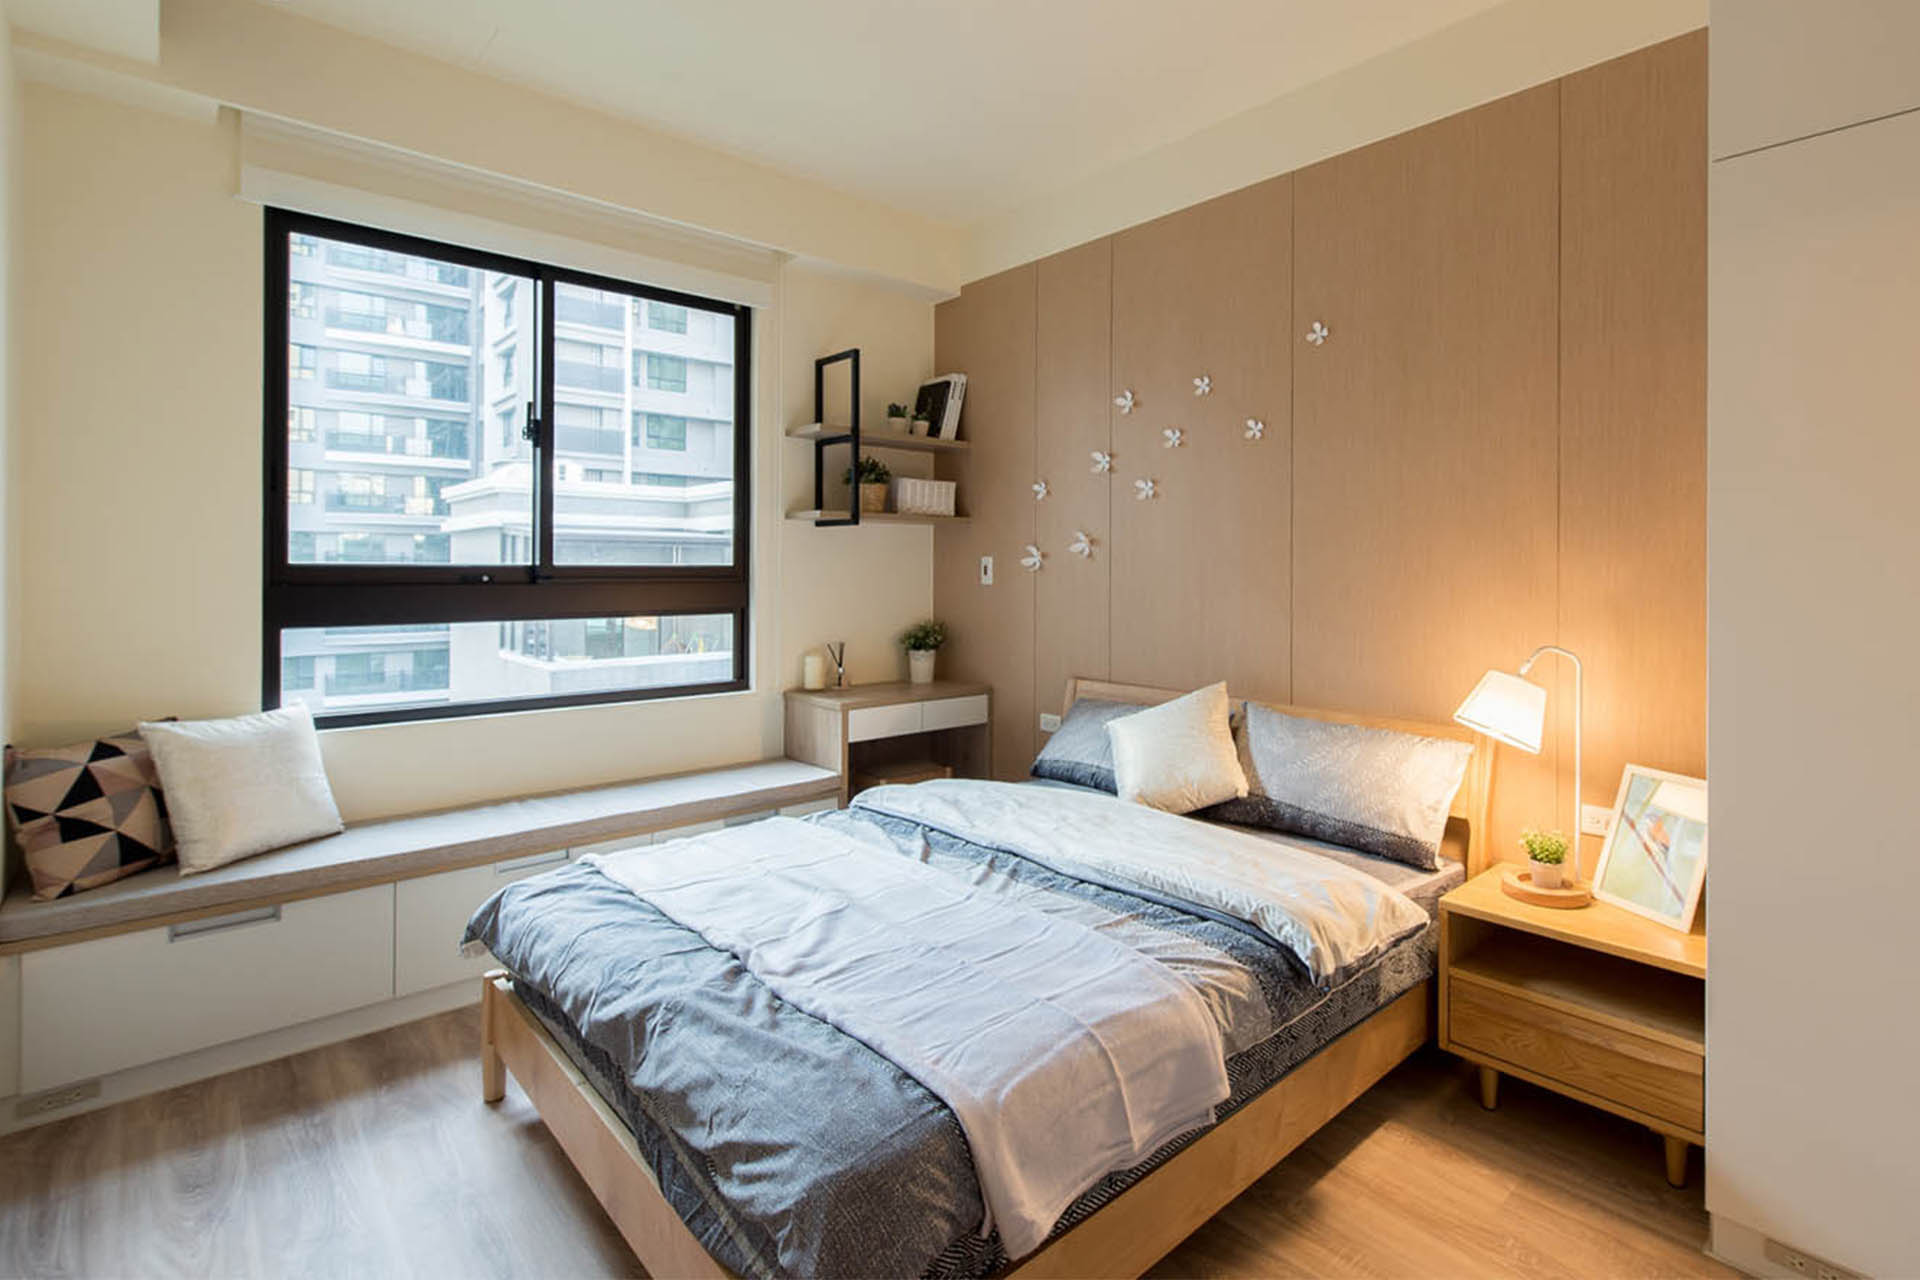bed: (476, 674, 1493, 1280)
lamp: (1456, 643, 1593, 911)
night stand: (1439, 857, 1707, 1194)
pillow: (139, 703, 344, 877), (4, 724, 144, 900)
shelf: (787, 344, 981, 534)
window: (261, 200, 759, 731)
